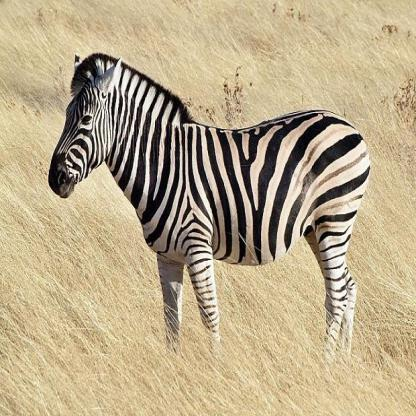zebra: (43, 57, 398, 363)
